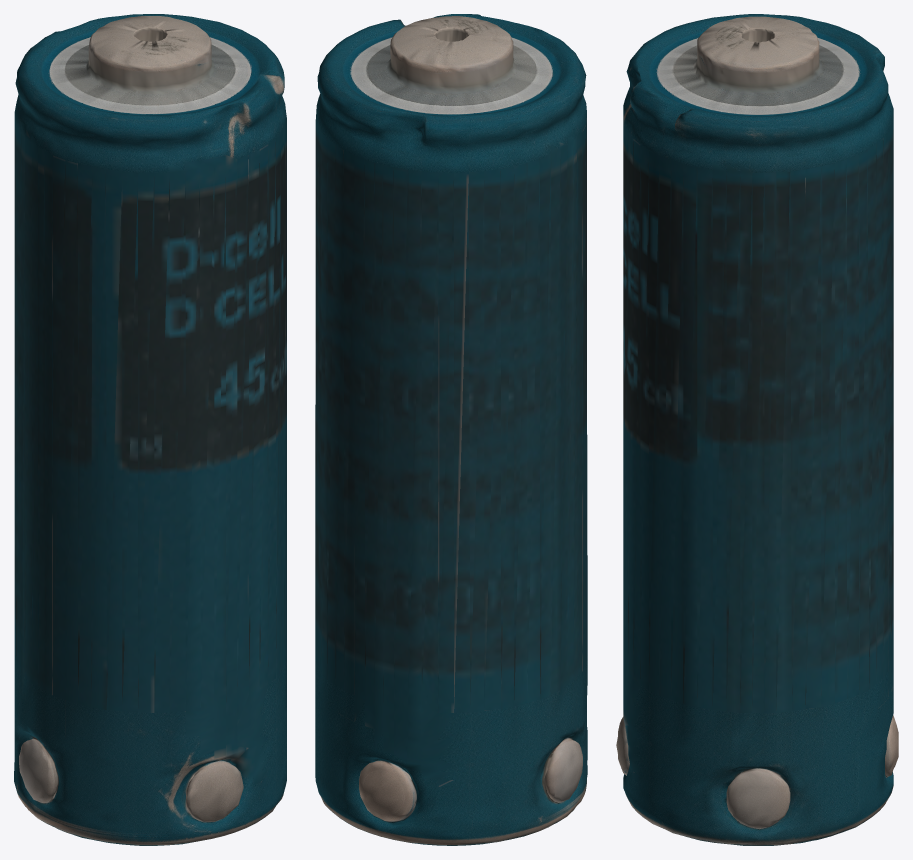
The model's file is Battery.fbx.
The picture shows the model from 3 angles, left to right: view 1: azimuth 30°, elevation 25°; view 2: azimuth 150°, elevation 25°; view 3: azimuth 270°, elevation 25°; orthographic projection.
Parts seen in each view (by area): view 1: mesh_node; view 2: mesh_node; view 3: mesh_node.
Boxes of the visible parts, x1,y1,x2,y2 form: mesh_node: [14, 14, 286, 845]; mesh_node: [315, 14, 587, 845]; mesh_node: [616, 14, 898, 845].
Size of the model in its own units: 64.58 by 191 by 64.19.
Materials: 1 (1 with a texture image).
